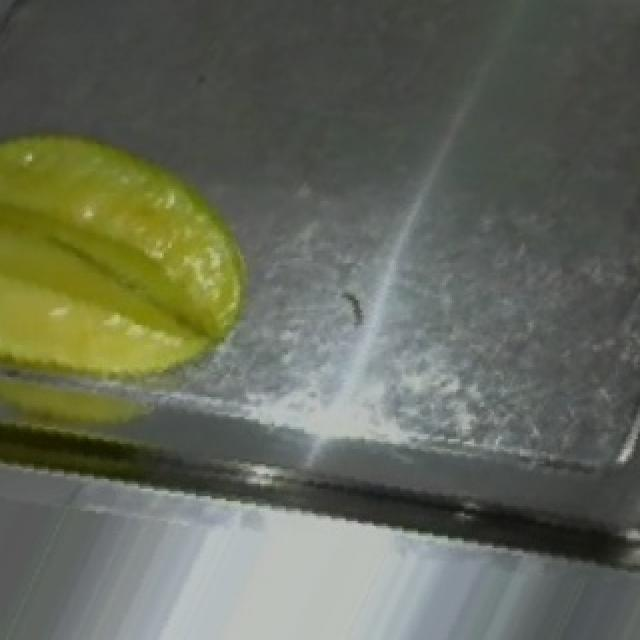fruit: (0, 94, 286, 459)
